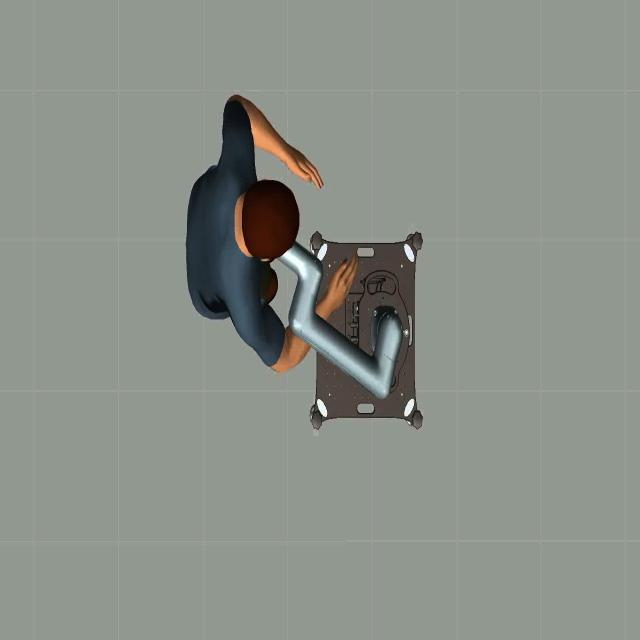human: (178, 75, 362, 384)
robot: (262, 210, 406, 402)
